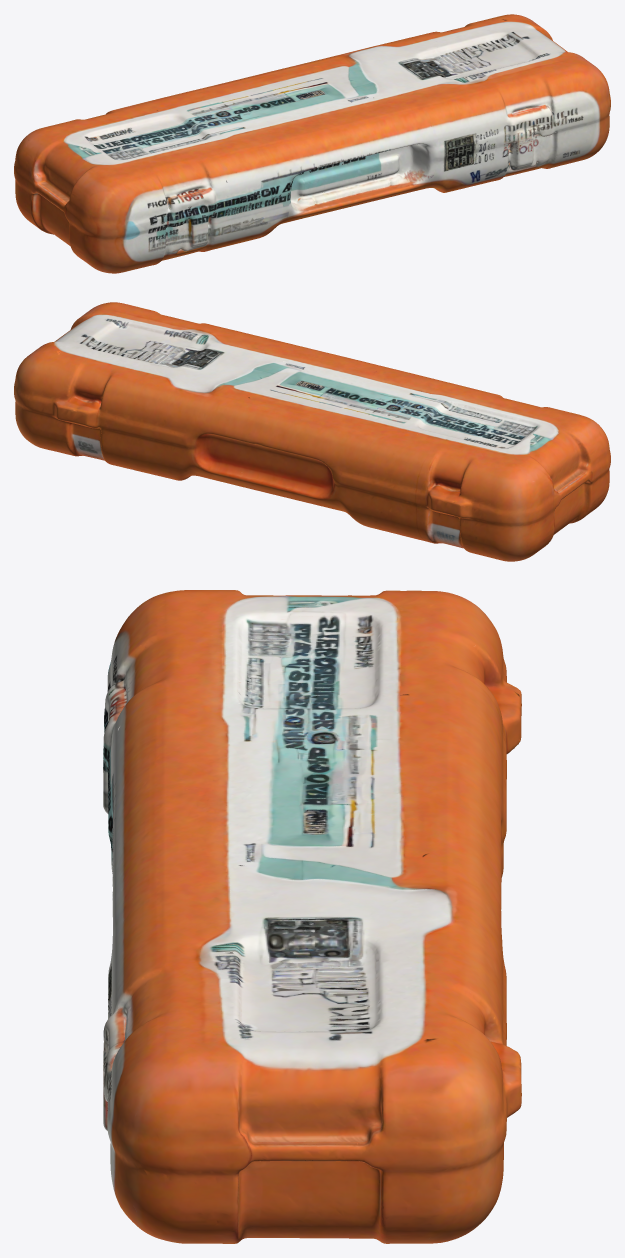
Rendered from Glucagon_Emergency_Ki_0301024104_texture.fbx.
3 renders of one model, top to bottom at view 1: azimuth 30°, elevation 25°; view 2: azimuth 150°, elevation 25°; view 3: azimuth 270°, elevation 25°, orthographic. The views are drawn at different scales.
Visible parts, largest first — view 1: Mesh1_Mesh1.014; view 2: Mesh1_Mesh1.014; view 3: Mesh1_Mesh1.014.
Part boxes in pixels (x1=…): Mesh1_Mesh1.014: x1=14, y1=14, x2=610, y2=273; Mesh1_Mesh1.014: x1=14, y1=302, x2=610, y2=561; Mesh1_Mesh1.014: x1=103, y1=590, x2=521, y2=1243.
Bounding box in the file's own units: 200 × 34.64 × 69.
1 material, 1 textured.
